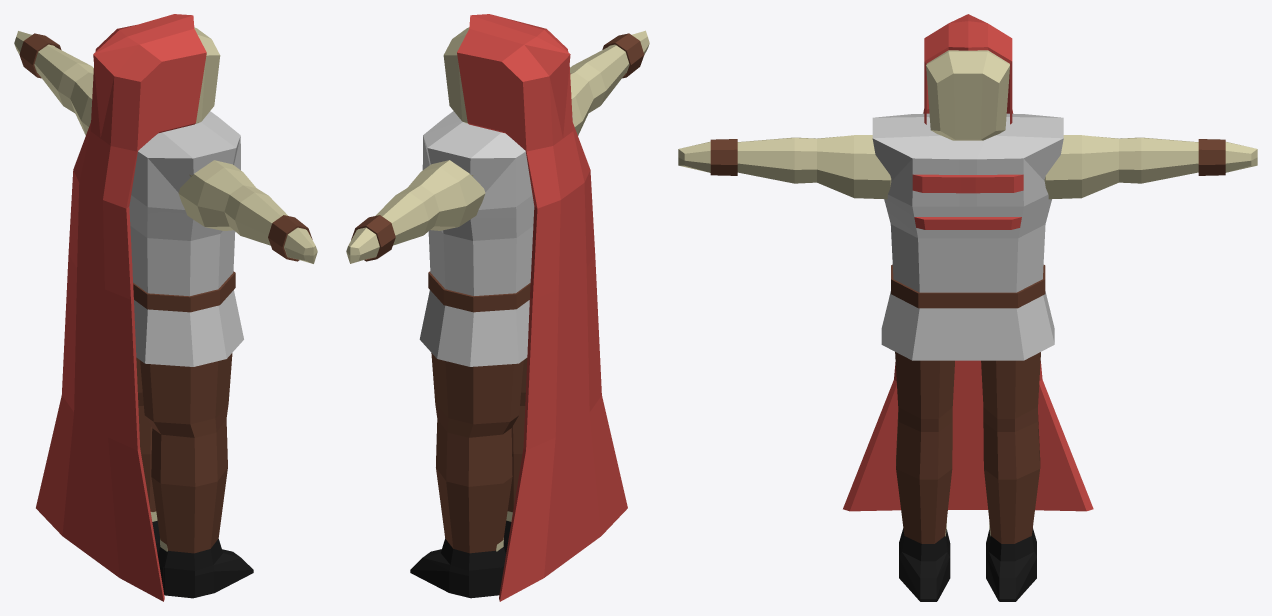
The model's file is Hunter T-Pose.fbx.
3 renders of one model, left to right at view 1: azimuth 30°, elevation 25°; view 2: azimuth 150°, elevation 25°; view 3: azimuth 270°, elevation 25°, orthographic. The views are drawn at different scales.
Visible parts, largest first — view 1: Hunter Cloak (Head), Hunter Tunic (Torso), Hunter Trousers (Legs), Basic Hunter; view 2: Hunter Cloak (Head), Hunter Tunic (Torso), Hunter Trousers (Legs), Basic Hunter; view 3: Hunter Tunic (Torso), Hunter Trousers (Legs), Basic Hunter, Hunter Cloak (Head).
Part boxes in pixels (box(x1,y1,x2,y2)): Hunter Cloak (Head): box(36, 14, 206, 601); Hunter Tunic (Torso): box(19, 33, 312, 366); Hunter Trousers (Legs): box(136, 353, 253, 597); Basic Hunter: box(14, 27, 317, 598); Hunter Cloak (Head): box(457, 14, 627, 601); Hunter Tunic (Torso): box(351, 33, 644, 366); Hunter Trousers (Legs): box(410, 353, 527, 597); Basic Hunter: box(346, 27, 649, 598); Hunter Tunic (Torso): box(710, 113, 1225, 360); Hunter Trousers (Legs): box(895, 352, 1040, 601); Basic Hunter: box(678, 50, 1257, 600); Hunter Cloak (Head): box(843, 14, 1093, 511).
Size of the model in its own units: 242 by 920 by 897.
